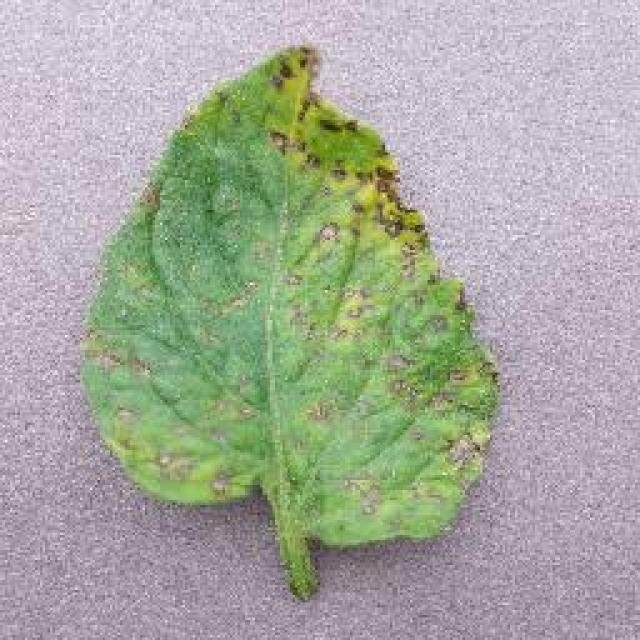Tomato___Septoria_leaf_spot: (82, 45, 498, 595)
